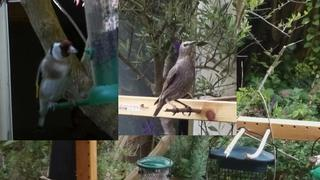goldfinch: (35, 40, 78, 127)
starling: (153, 40, 197, 117)
